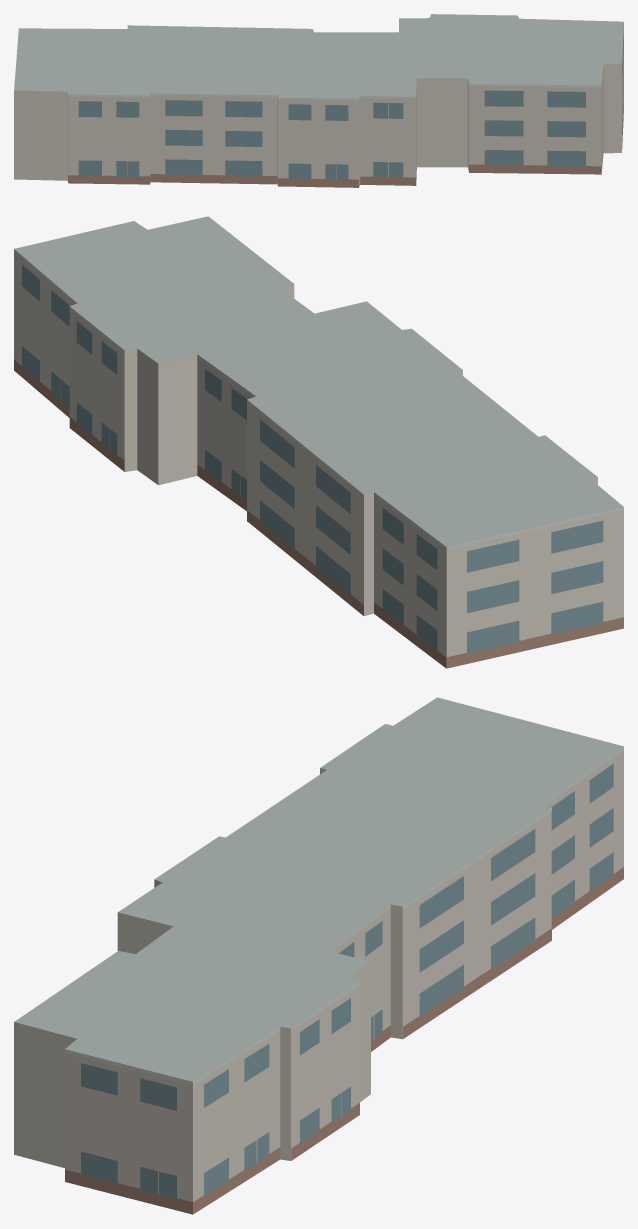
File: survey-upis-32946657.glb
3 views of the same model, one above another, from view 1: azimuth 30°, elevation 25°; view 2: azimuth 150°, elevation 25°; view 3: azimuth 270°, elevation 25° (orthographic). The views are drawn at different scales.
Parts seen in each view (by area): view 1: survey-upis-32946657.tmp; view 2: survey-upis-32946657.tmp; view 3: survey-upis-32946657.tmp.
Part boxes in pixels (x1,y1,x2,y2): survey-upis-32946657.tmp: [14, 14, 623, 187]; survey-upis-32946657.tmp: [14, 216, 623, 668]; survey-upis-32946657.tmp: [14, 697, 623, 1214].
Bounding box in the file's own units: 56.83 × 9.15 × 38.1.
